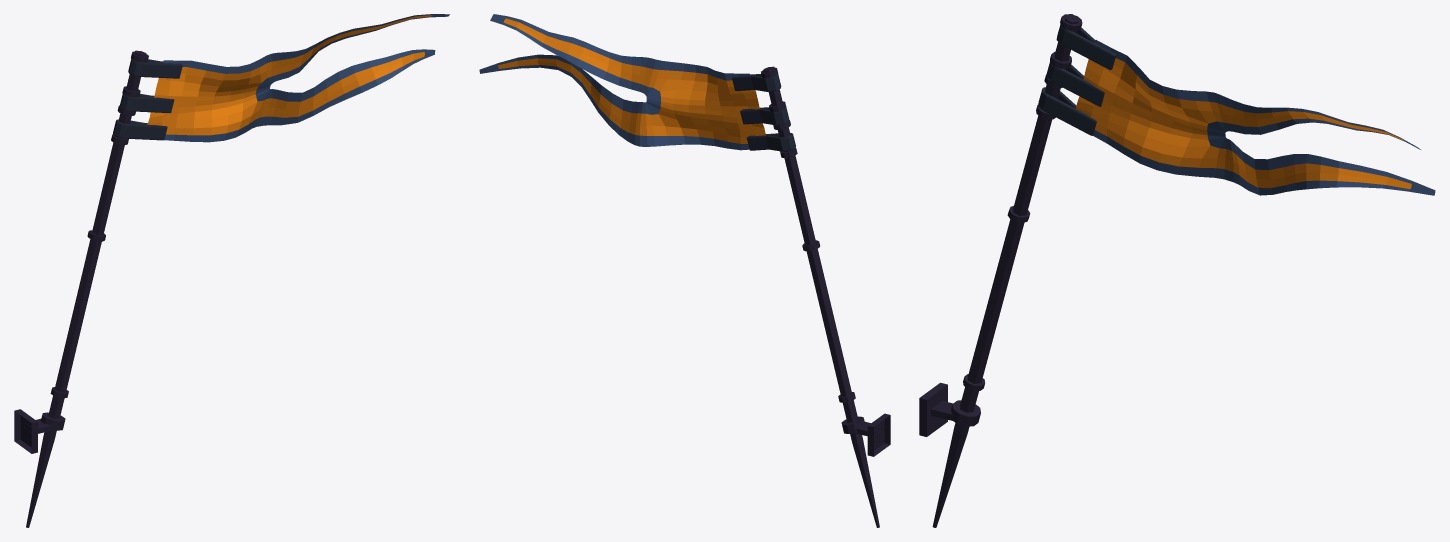
The model's file is MCastle_Fixtures_04.FBX.
3 renders of one model, left to right at view 1: azimuth 30°, elevation 25°; view 2: azimuth 150°, elevation 25°; view 3: azimuth 330°, elevation 25°, orthographic. The views are drawn at different scales.
Visible parts, largest first — view 1: MCastle_Fixtures_04_LOD0; view 2: MCastle_Fixtures_04_LOD0; view 3: MCastle_Fixtures_04_LOD0.
Boxes of the visible parts, <box> form: MCastle_Fixtures_04_LOD0: <box>14,14,449,527</box>; MCastle_Fixtures_04_LOD0: <box>479,14,890,527</box>; MCastle_Fixtures_04_LOD0: <box>919,14,1435,527</box>.
Size of what is drawn, in the model's own units: 6.6 by 6.81 by 0.703.
